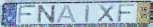A: (55, 4, 78, 24)
F: (16, 4, 37, 25), (116, 3, 137, 23)
I: (84, 4, 91, 23)
N: (37, 4, 57, 24)
X: (97, 4, 116, 23)
